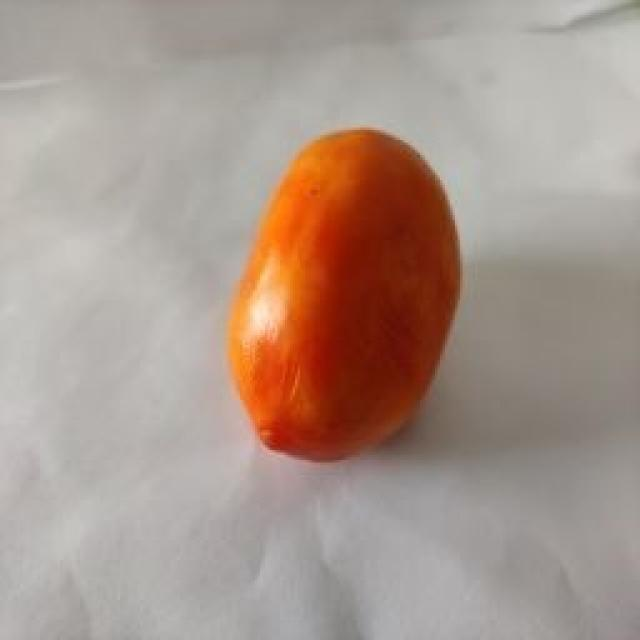Ripe: (225, 127, 466, 464)
